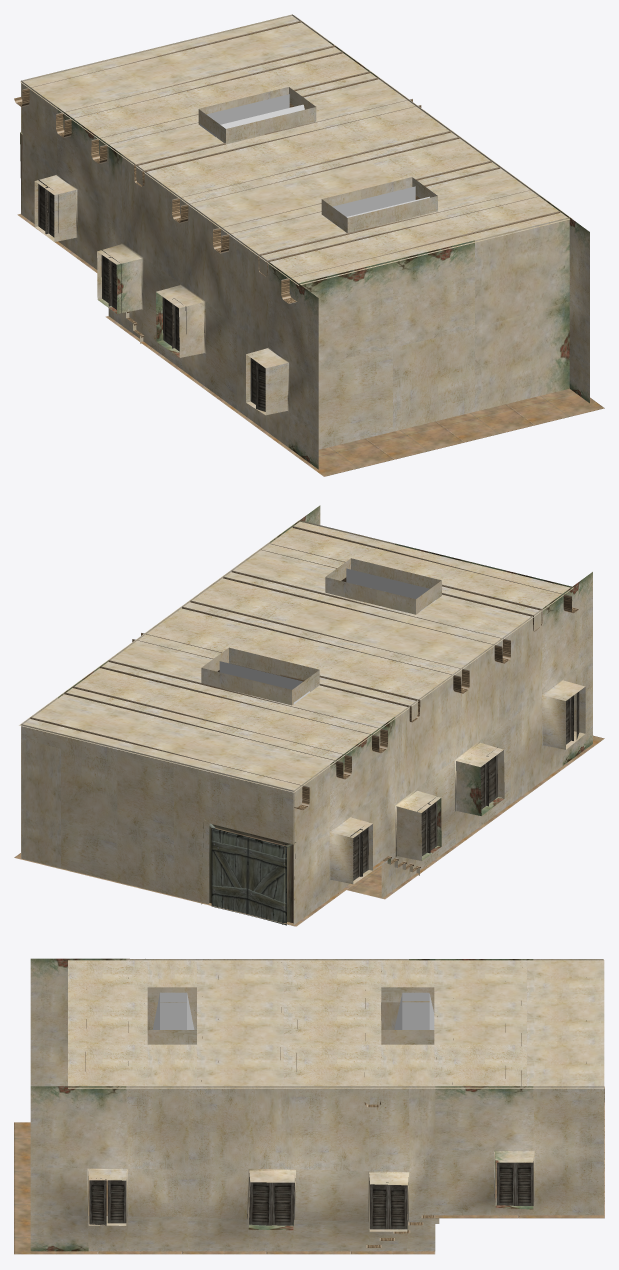
The model's file is interior_spanish_store.fbx.
3 views of the same model, one above another, from view 1: azimuth 30°, elevation 25°; view 2: azimuth 150°, elevation 25°; view 3: azimuth 270°, elevation 25° (orthographic). The views are drawn at different scales.
Parts seen in each view (by area): view 1: Ceiling, Wall5, wall_02, floor_main, Wall10, ray_1, beam_4, beam_1, ray_2, beam_6, beam_3, beam_5 (+3 smaller); view 2: Ceiling, Wall5, wall_03, door_1_left, door_1_right, floor_main, beam_5, beam_2, beam_4, beam_1, ray_2, ray_1 (+8 smaller); view 3: Wall10, Ceiling, Wall5, floor_main, ray_2, ray_1, Shutter2, Shutter16, Shutter6, floor_landing, Shutter11, Shutter3 (+3 smaller).
Boxes of the visible parts, <box> form: Ceiling: <box>20,15,572,285</box>; Wall5: <box>21,80,318,469</box>; wall_02: <box>299,217,569,449</box>; floor_main: <box>105,316,604,476</box>; Wall10: <box>292,14,589,403</box>; ray_1: <box>200,94,304,136</box>; beam_4: <box>172,130,459,223</box>; beam_1: <box>56,45,343,137</box>; ray_2: <box>326,186,429,228</box>; beam_6: <box>258,190,538,276</box>; beam_3: <box>134,99,421,186</box>; beam_5: <box>213,160,500,253</box>; Ceiling: <box>19,520,573,792</box>; Wall5: <box>293,572,592,926</box>; wall_03: <box>21,724,294,904</box>; door_1_left: <box>247,838,284,924</box>; door_1_right: <box>211,829,248,914</box>; floor_main: <box>347,735,604,899</box>; beam_5: <box>223,570,510,663</box>; beam_2: <box>100,660,387,753</box>; beam_4: <box>182,600,469,693</box>; beam_1: <box>64,686,351,779</box>; ray_2: <box>346,568,435,611</box>; ray_1: <box>219,661,309,703</box>; Wall10: <box>30,1086,603,1251</box>; Ceiling: <box>68,960,604,1088</box>; Wall5: <box>30,958,603,1086</box>; floor_main: <box>14,1122,435,1254</box>; ray_2: <box>152,992,194,1029</box>; ray_1: <box>394,992,434,1029</box>; Shutter2: <box>272,1182,294,1225</box>; Shutter16: <box>249,1182,271,1225</box>; Shutter6: <box>388,1185,407,1229</box>; floor_landing: <box>435,1086,604,1218</box>; Shutter11: <box>496,1162,515,1205</box>; Shutter3: <box>107,1180,126,1223</box>.
Bounding box in the file's own units: 4755 × 2639 × 7844.
4 materials, 4 textured.
